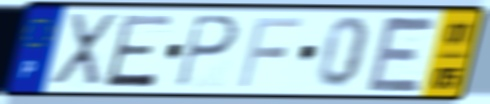0: (316, 13, 373, 93)
E: (364, 13, 441, 95), (101, 13, 177, 90)
F: (235, 15, 305, 90)
P: (174, 12, 241, 91)
X: (47, 11, 120, 91)
